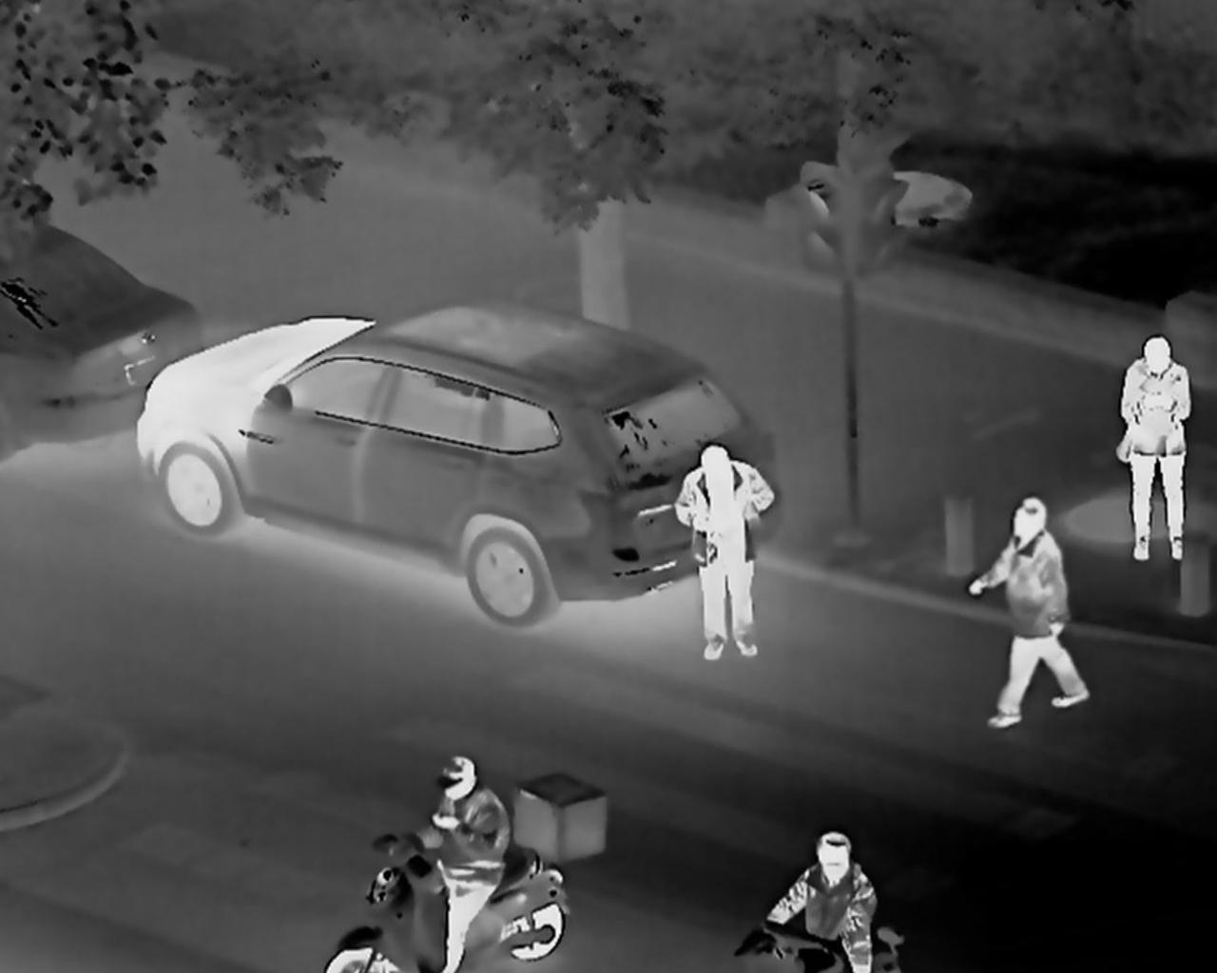person: (979, 490, 1080, 739), (426, 743, 532, 957), (1119, 315, 1198, 545), (785, 830, 925, 955), (701, 449, 783, 661)
